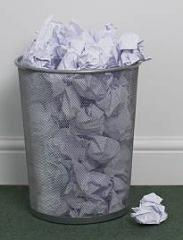paper: (22, 15, 152, 69), (132, 192, 168, 224), (142, 192, 162, 202)
